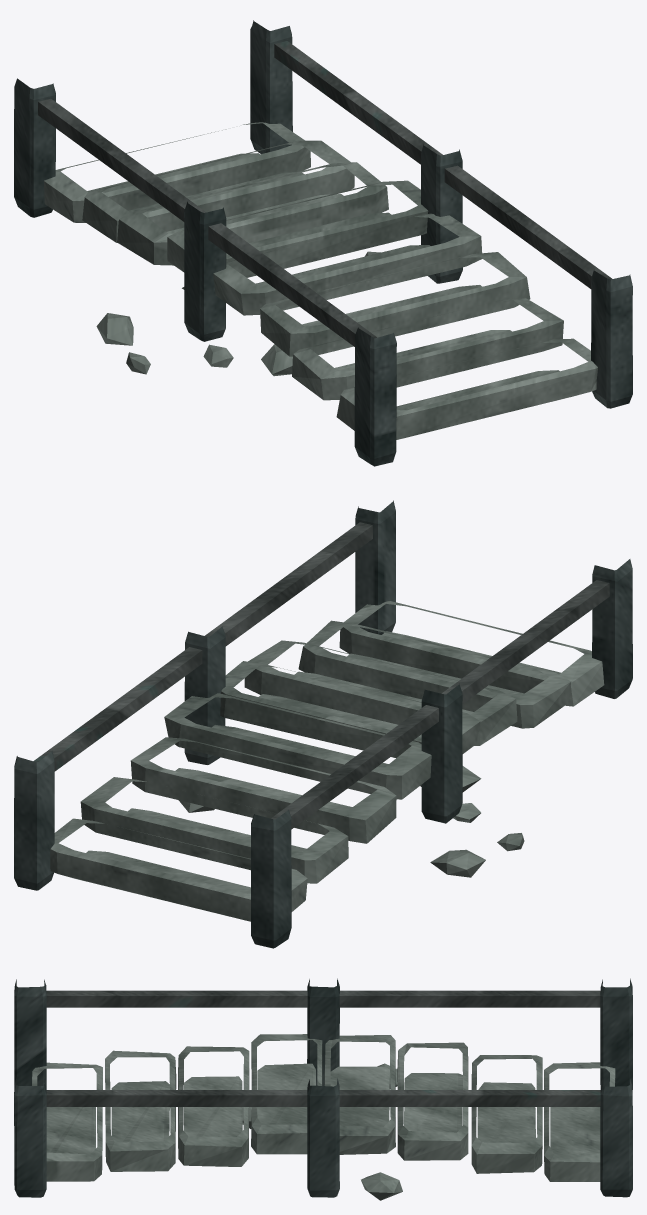
The model's file is 0381_ruined_bridge_06.glb.
3 views of the same model, one above another, from view 1: azimuth 30°, elevation 25°; view 2: azimuth 150°, elevation 25°; view 3: azimuth 270°, elevation 25° (orthographic). The views are drawn at different scales.
Parts seen in each view (by area): view 1: stone, stone_dark, iron; view 2: stone, stone_dark, iron; view 3: stone, stone_dark, iron.
Part boxes in pixels (box(x1,y1,x2,y2)): stone: box(44, 122, 597, 439); stone_dark: box(14, 20, 632, 466); iron: box(38, 41, 611, 346); stone: box(50, 601, 604, 921); stone_dark: box(14, 500, 632, 948); iron: box(33, 522, 609, 829); stone: box(32, 1034, 615, 1200); stone_dark: box(14, 978, 632, 1197); iron: box(46, 990, 600, 1106).
Size of the model in its own units: 2.53 by 1.1 by 4.81.
3 materials, 3 textured.
